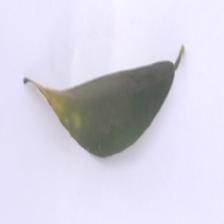greening: (23, 66, 84, 143)
